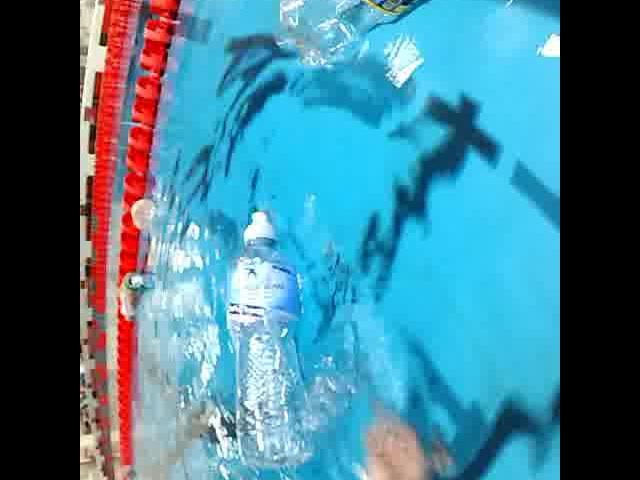Bottle: (225, 205, 317, 480), (270, 0, 510, 80), (128, 194, 162, 228)
Can: (122, 266, 144, 296)
